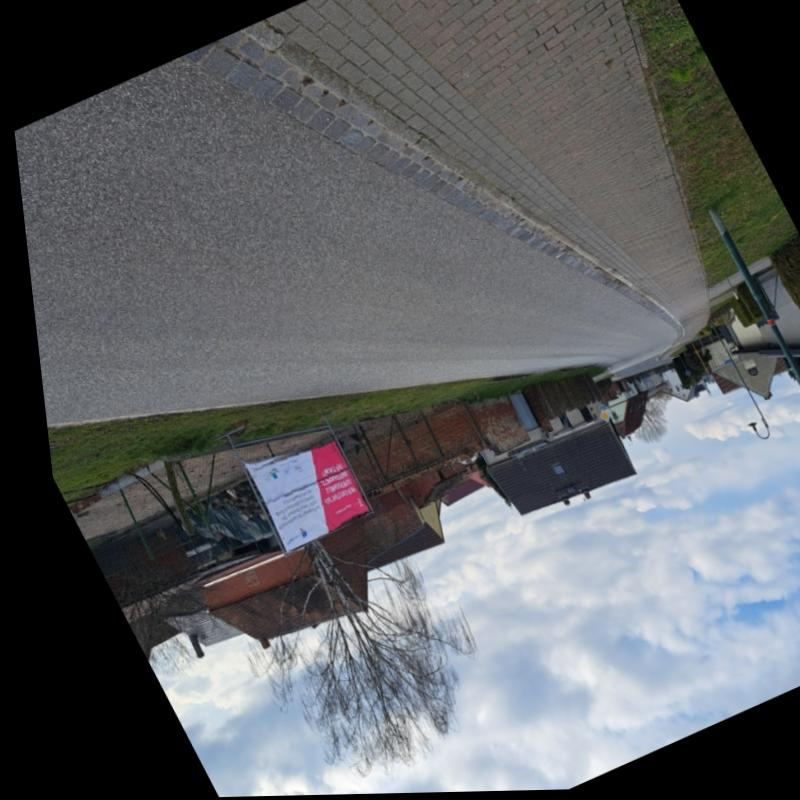Banner: (242, 443, 358, 551)
